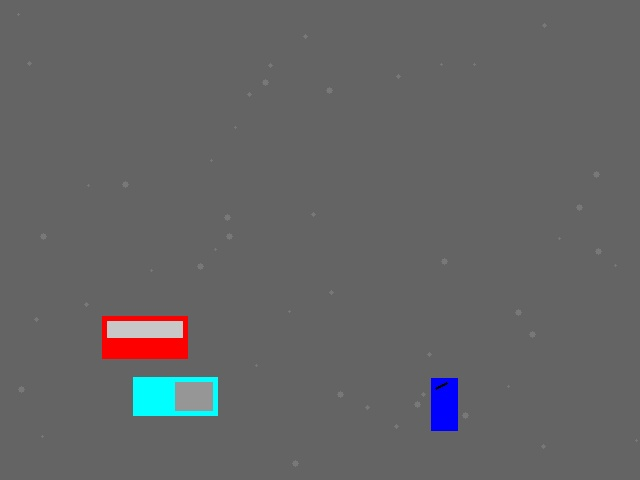car: (102, 316, 187, 358)
motorcycle: (431, 378, 457, 430)
truck: (133, 377, 217, 415)
